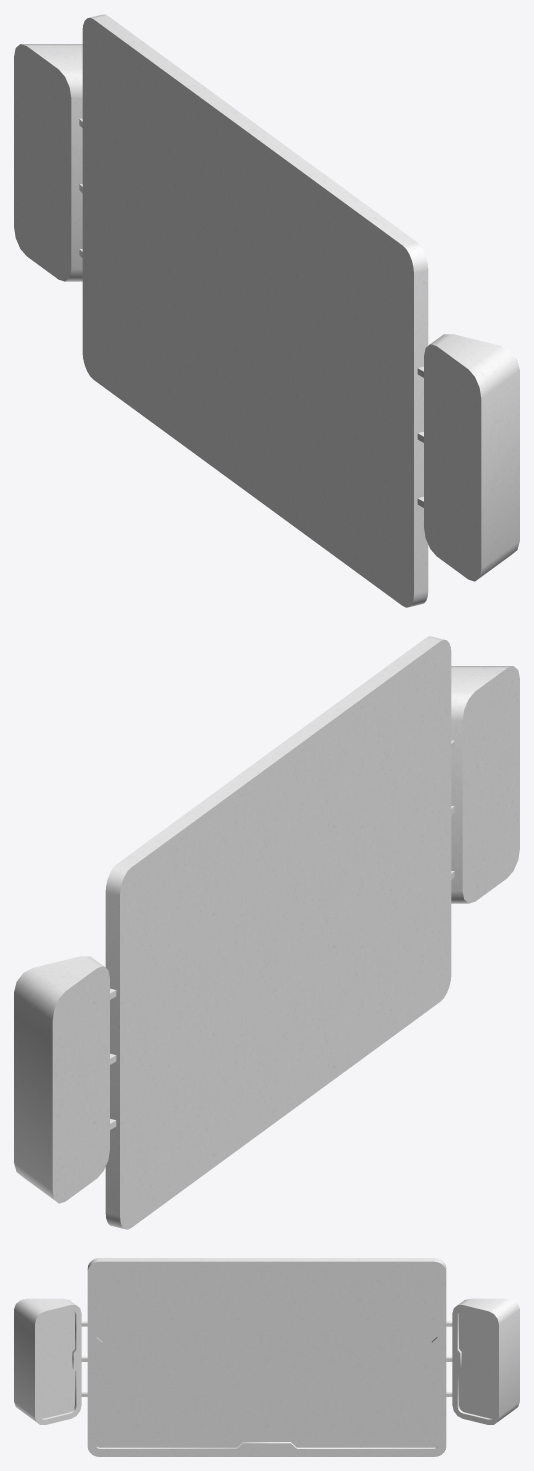
Rendered from Med_tv.fbx.
3 views of the same model, one above another, from view 1: azimuth 30°, elevation 25°; view 2: azimuth 150°, elevation 25°; view 3: azimuth 270°, elevation 25° (orthographic). The views are drawn at different scales.
Visible parts, largest first — view 1: Screen_4_1; view 2: Screen_4_1; view 3: Screen_4_1.
Boxes of the visible parts, x1=… form: Screen_4_1: x1=14, y1=14, x2=519, y2=607; Screen_4_1: x1=14, y1=636, x2=519, y2=1229; Screen_4_1: x1=14, y1=1258, x2=519, y2=1456.
Bounding box in the file's own units: 15.4 × 91.44 × 215.
